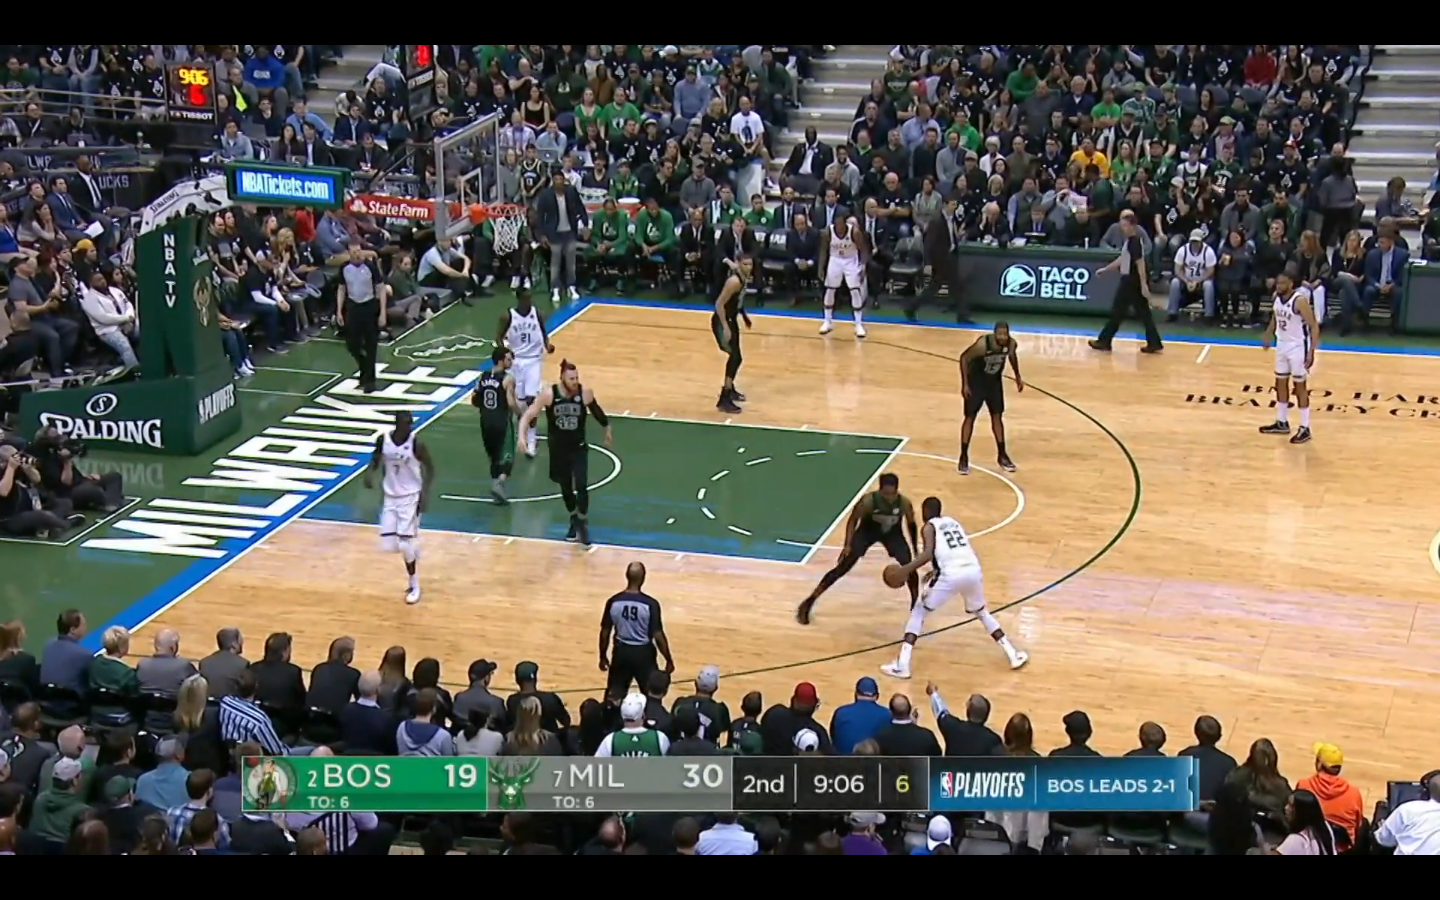basketball: (878, 562, 912, 591)
basketball player: (881, 489, 1038, 685), (796, 469, 918, 625), (521, 357, 608, 557), (361, 405, 436, 608), (955, 322, 1030, 480), (1262, 268, 1318, 456), (499, 282, 558, 423), (708, 251, 755, 429), (818, 212, 873, 342), (473, 349, 515, 509)
referee: (592, 557, 679, 705), (1085, 212, 1164, 356), (330, 239, 392, 403)
